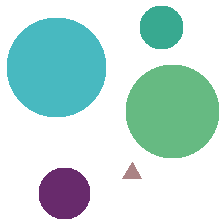circle: (7, 18, 105, 116), (126, 65, 218, 157), (39, 168, 89, 218), (140, 6, 182, 48)
triangle: (122, 162, 141, 178)
